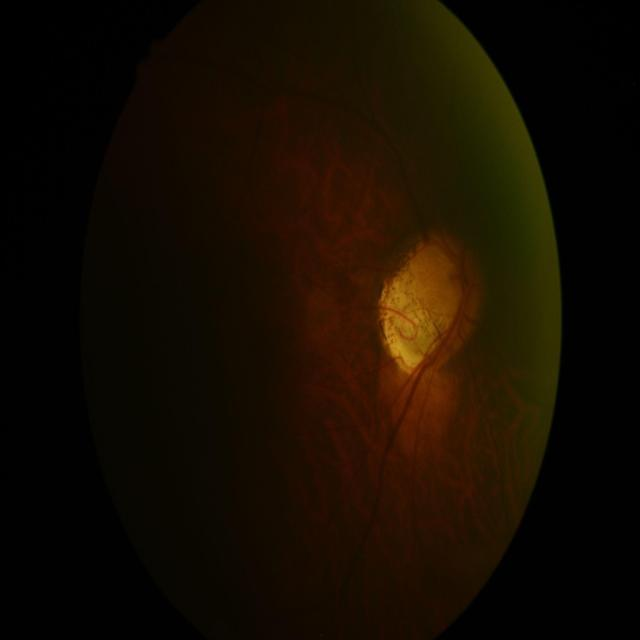cup: (417, 242, 468, 338)
disk: (414, 231, 481, 347)
